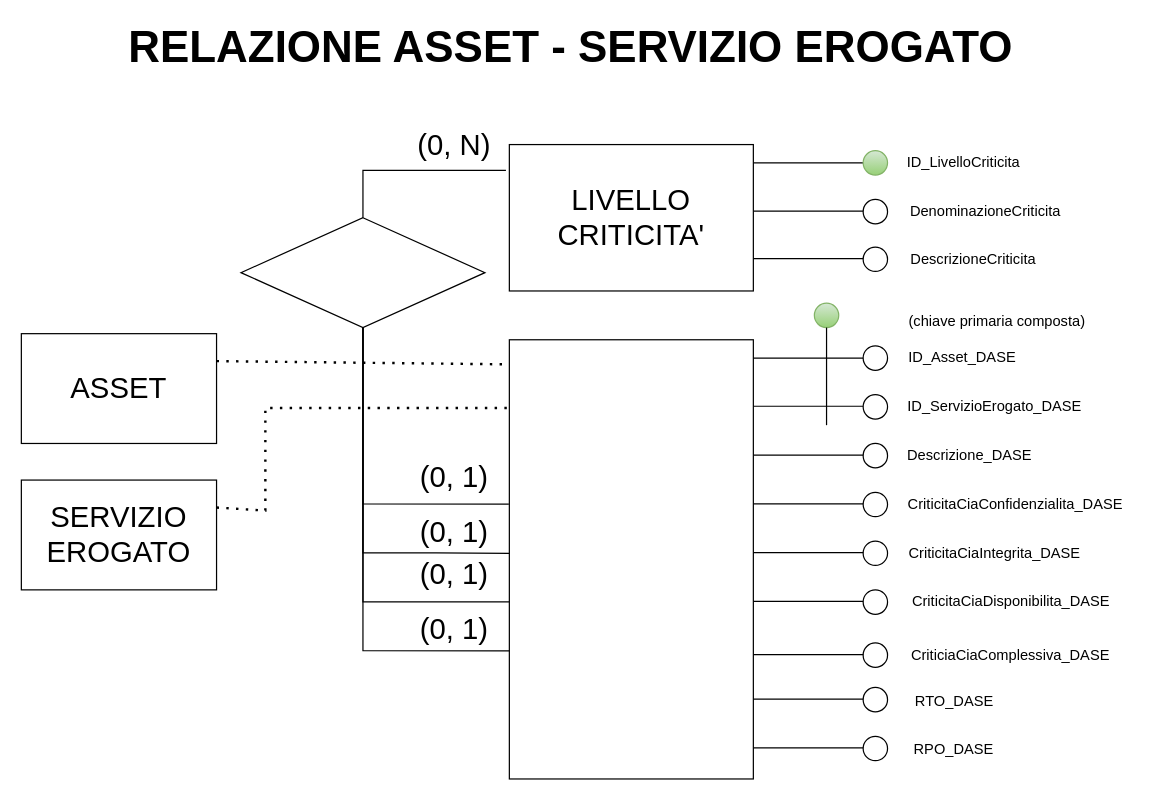
Some shapes in this 1159 by 800 pixel diagram are drawn without their labels. The shapes that lost their labels are listed below. From the top down, each one's centre as x and y in pixels, then its label:
point 362,272: Dip. Asset Serv. Erog. - Livello Criticità
point 630,559: DIPENDENZA ASSET - SERVIZIO EROGATO
